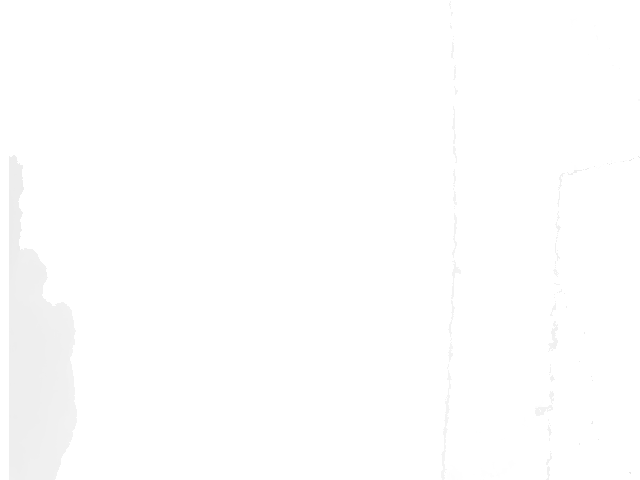hand: (7, 153, 25, 197)
head: (17, 248, 48, 287)
person: (7, 153, 79, 480)
